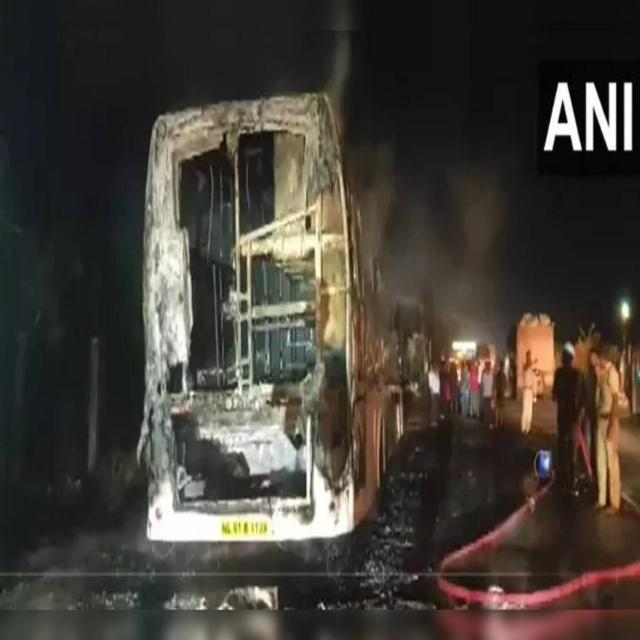accident: (138, 99, 403, 548)
truck: (516, 312, 555, 399)
